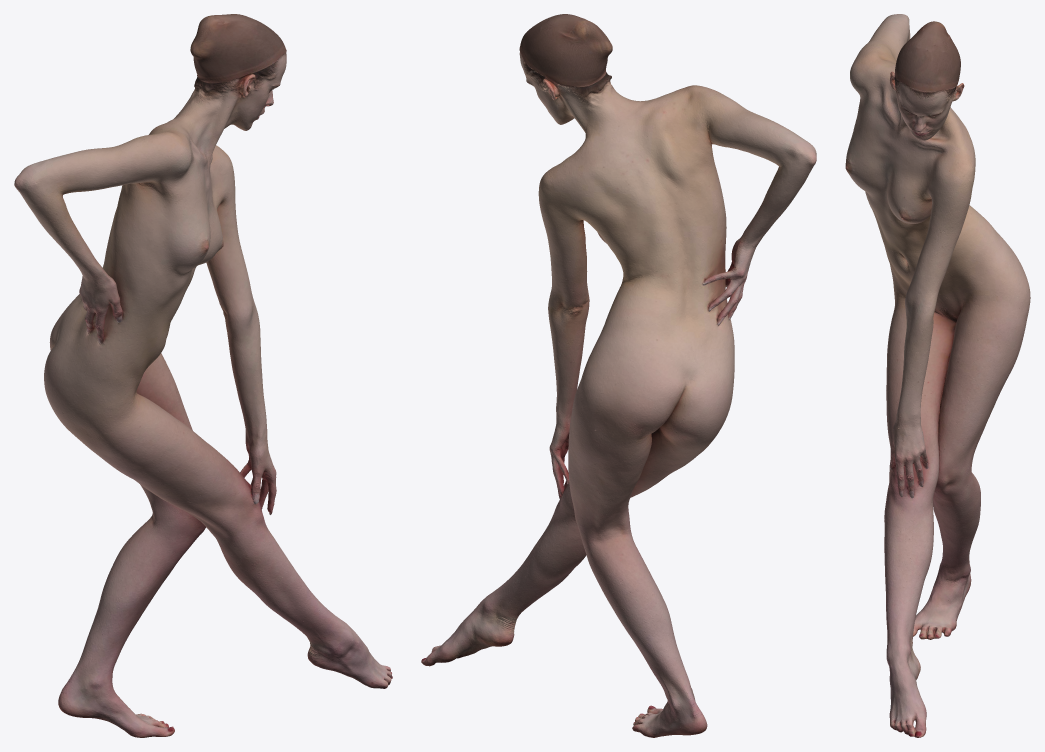
File: colour-female-06-p04.glb
The picture shows the model from 3 angles, left to right: view 1: azimuth 30°, elevation 25°; view 2: azimuth 150°, elevation 25°; view 3: azimuth 270°, elevation 25°; orthographic projection. The views are drawn at different scales.
Visible parts, largest first — view 1: Colour Female 06 P04 · Quest-optimized photogrammetry scan; view 2: Colour Female 06 P04 · Quest-optimized photogrammetry scan; view 3: Colour Female 06 P04 · Quest-optimized photogrammetry scan.
Part boxes in pixels (x1=…): Colour Female 06 P04 · Quest-optimized photogrammetry scan: x1=14, y1=14, x2=392, y2=737; Colour Female 06 P04 · Quest-optimized photogrammetry scan: x1=421, y1=14, x2=816, y2=737; Colour Female 06 P04 · Quest-optimized photogrammetry scan: x1=845, y1=14, x2=1030, y2=737.
Bounding box in the file's own units: 0.9141 × 1.57 × 0.4115.
1 material, 1 textured.
